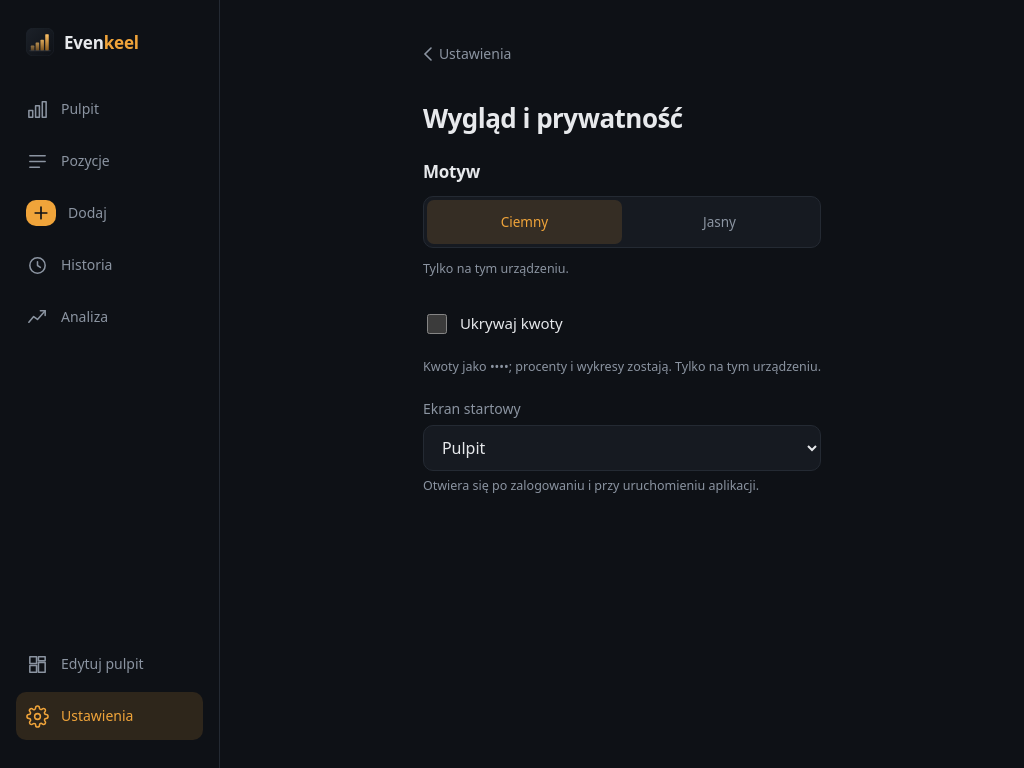
Test case: start screen › is chosen in Wygląd i prywatność
Select "Pozycje" in the dropdown labelled "Ekran startowy" at (622, 448), box [423,425,821,471]
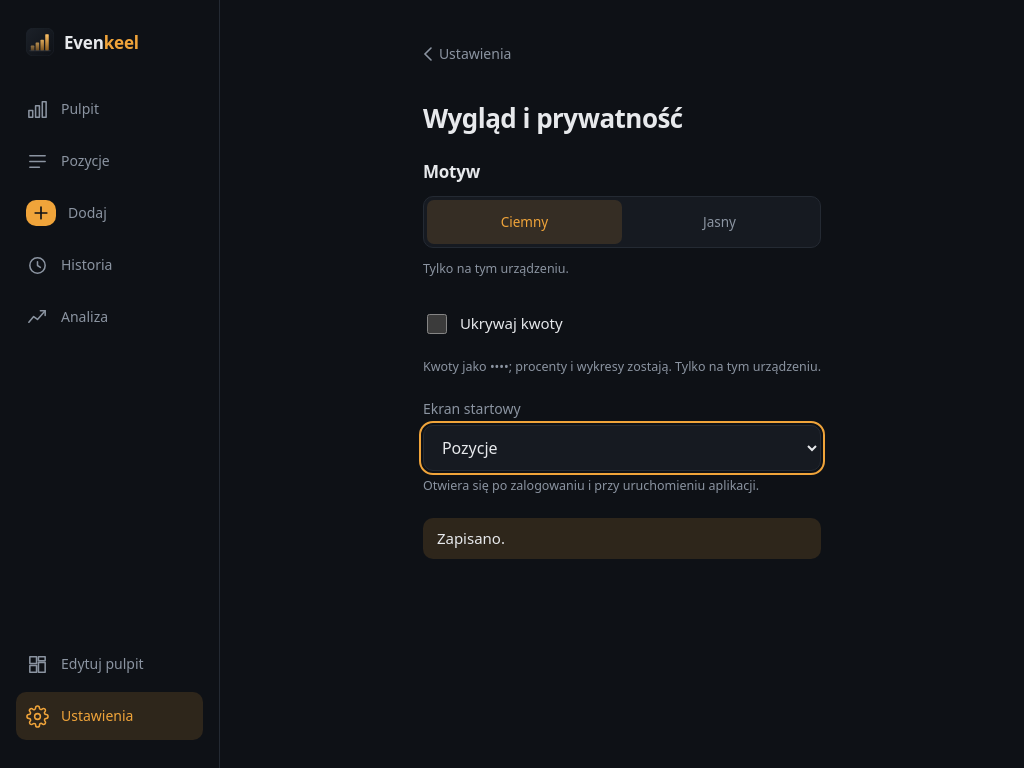
Result: the message reads "Zapisano." at [437,528,505,548]
